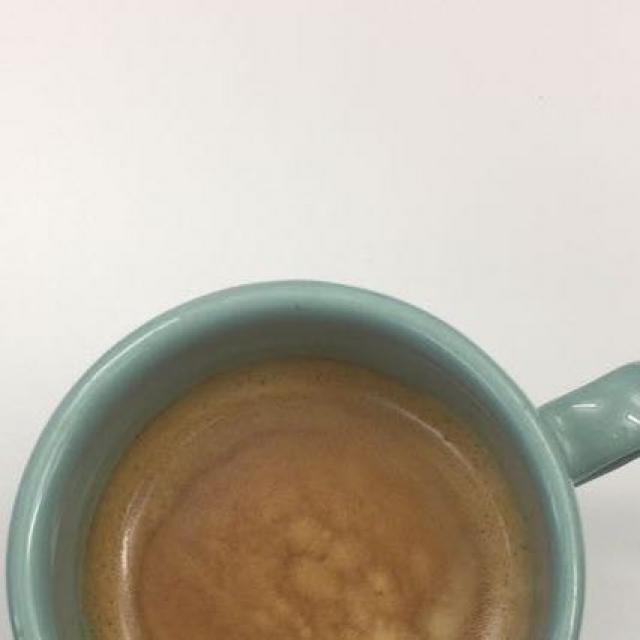coffee: (70, 352, 549, 627)
